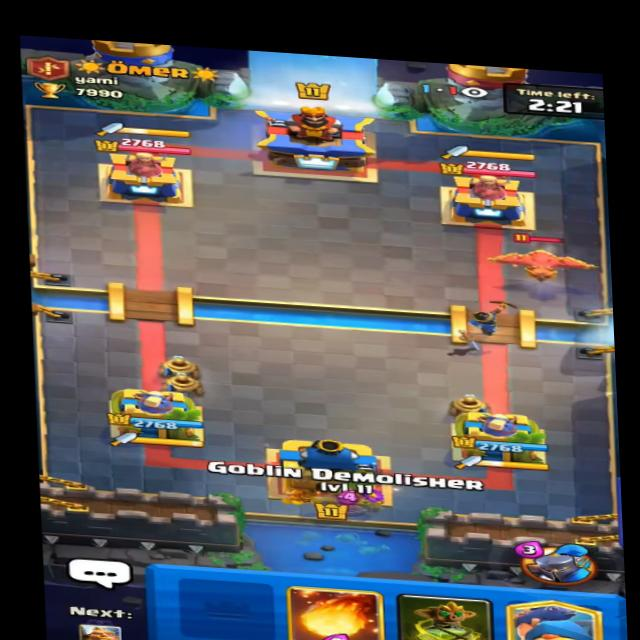Pheonix: (492, 234, 607, 291)
